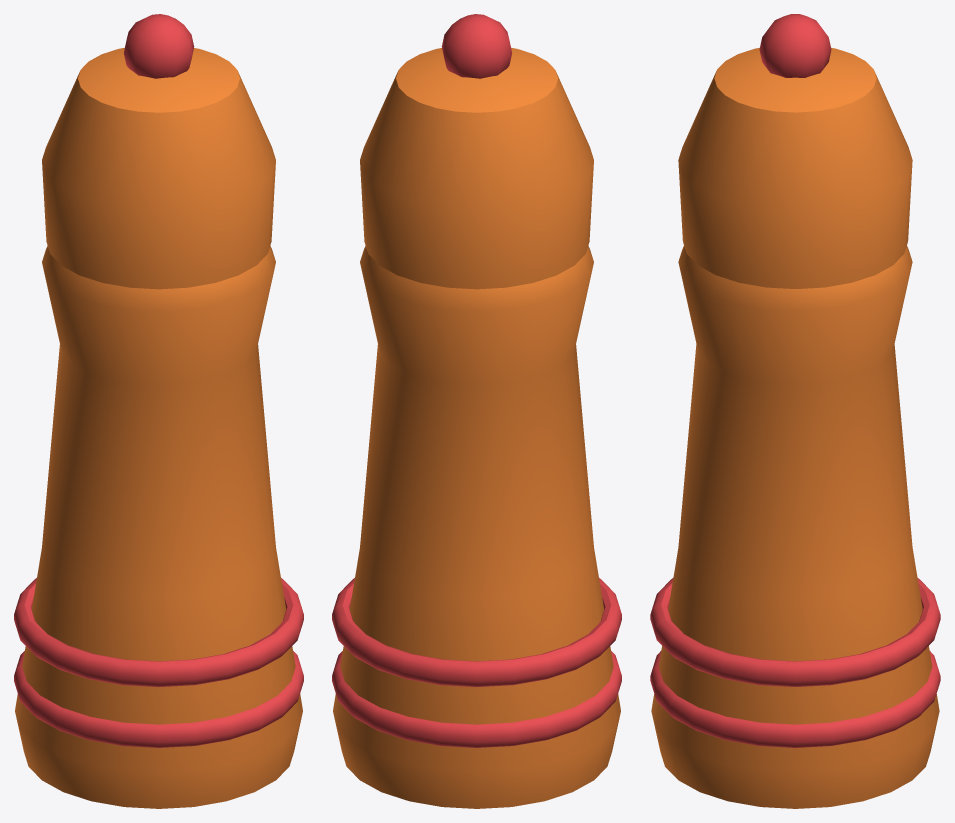
File: moedor_pimenta_laranja.glb
3 renders of one model, left to right at view 1: azimuth 30°, elevation 25°; view 2: azimuth 150°, elevation 25°; view 3: azimuth 270°, elevation 25°, orthographic.
Parts seen in each view (by area): view 1: moedor_pimenta_laranja; view 2: moedor_pimenta_laranja; view 3: moedor_pimenta_laranja.
Part boxes in pixels (left/top/right/bottom): moedor_pimenta_laranja: left=14, top=14, right=303, bottom=808; moedor_pimenta_laranja: left=332, top=14, right=621, bottom=808; moedor_pimenta_laranja: left=650, top=14, right=940, bottom=808.
Bounding box in the file's own units: 0.0644 × 0.18 × 0.0644.
1 material, 1 textured.
